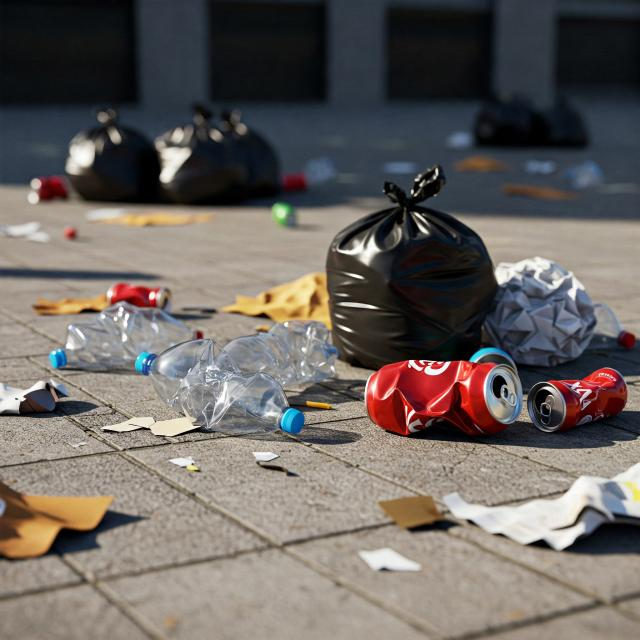aluminum: (132, 318, 341, 440), (362, 356, 525, 442), (46, 298, 191, 374), (524, 364, 631, 438), (0, 374, 70, 420), (105, 280, 176, 311)
paper: (448, 465, 638, 548), (490, 256, 599, 367), (102, 411, 198, 439)
